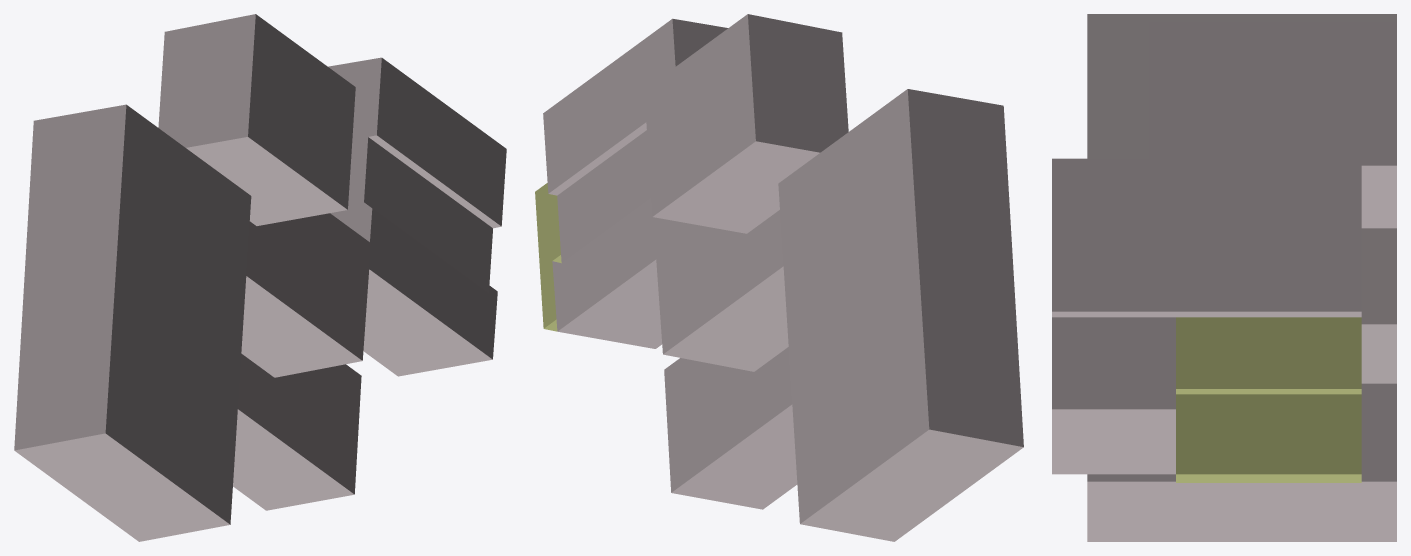
The picture shows the model from 3 angles, left to right: view 1: azimuth 30°, elevation 25°; view 2: azimuth 150°, elevation 25°; view 3: azimuth 270°, elevation 25°; orthographic projection. The views are drawn at different scales.
Parts seen in each view (by area): view 1: 0_2_1_3_0_3_0_2_1_0; view 2: 0_2_1_3_0_3_0_2_1_0; view 3: 0_2_1_3_0_3_0_2_1_0.
Part boxes in pixels (left/top/right/bottom): 0_2_1_3_0_3_0_2_1_0: left=14, top=14, right=506, bottom=541; 0_2_1_3_0_3_0_2_1_0: left=535, top=14, right=1023, bottom=541; 0_2_1_3_0_3_0_2_1_0: left=1052, top=14, right=1396, bottom=541.
Bounding box in the file's own units: 25.05 × 25.66 × 16.7.
